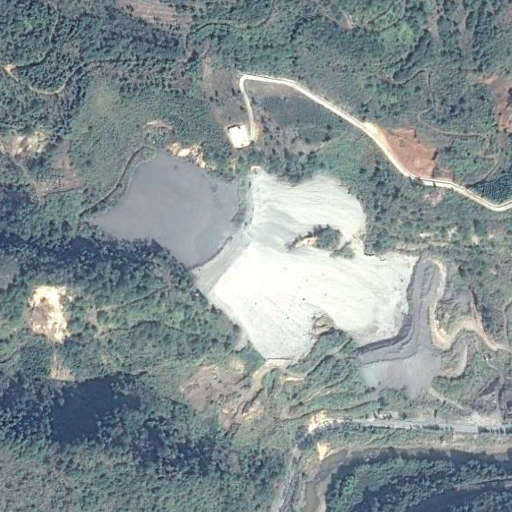tp: (78, 145, 468, 405)
